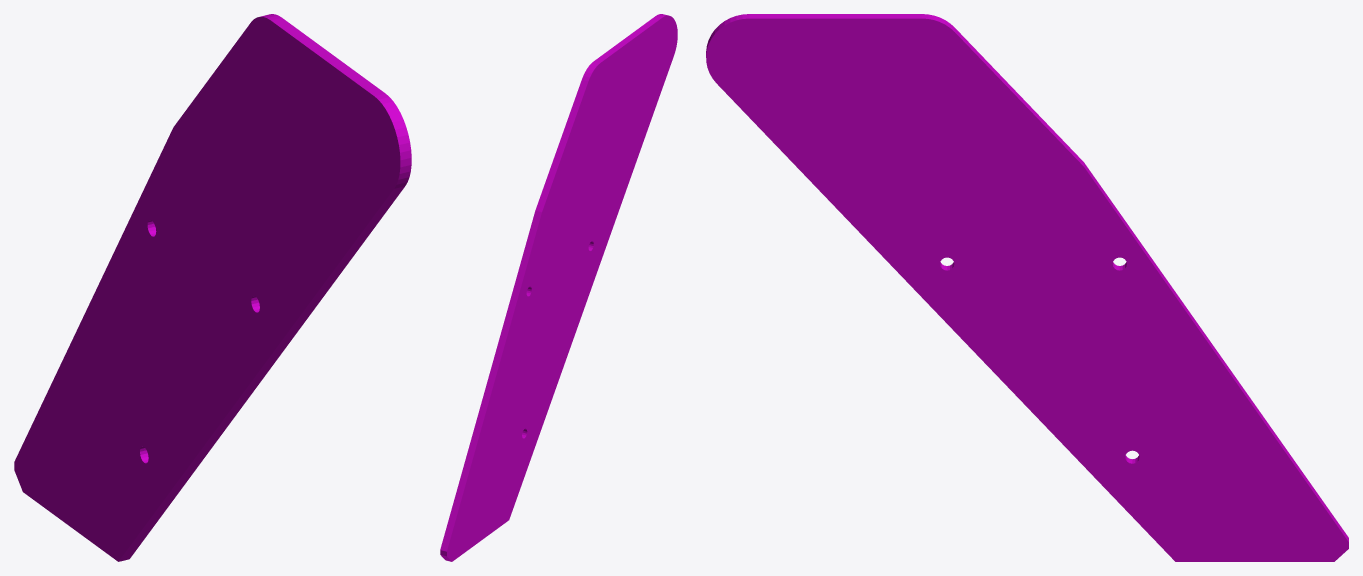
The model's file is 1170138_ROB_2_180_30.obj.
3 renders of one model, left to right at view 1: azimuth 30°, elevation 25°; view 2: azimuth 150°, elevation 25°; view 3: azimuth 270°, elevation 25°, orthographic. The views are drawn at different scales.
Parts seen in each view (by area): view 1: 2388244803984; view 2: 2388244803984; view 3: 2388244803984.
Boxes of the visible parts, box(x1,y1,x2,y2) form: 2388244803984: box(14, 14, 411, 561); 2388244803984: box(440, 14, 677, 561); 2388244803984: box(706, 14, 1348, 561).
Size of the model in its own units: 7.5 by 415 by 445.
